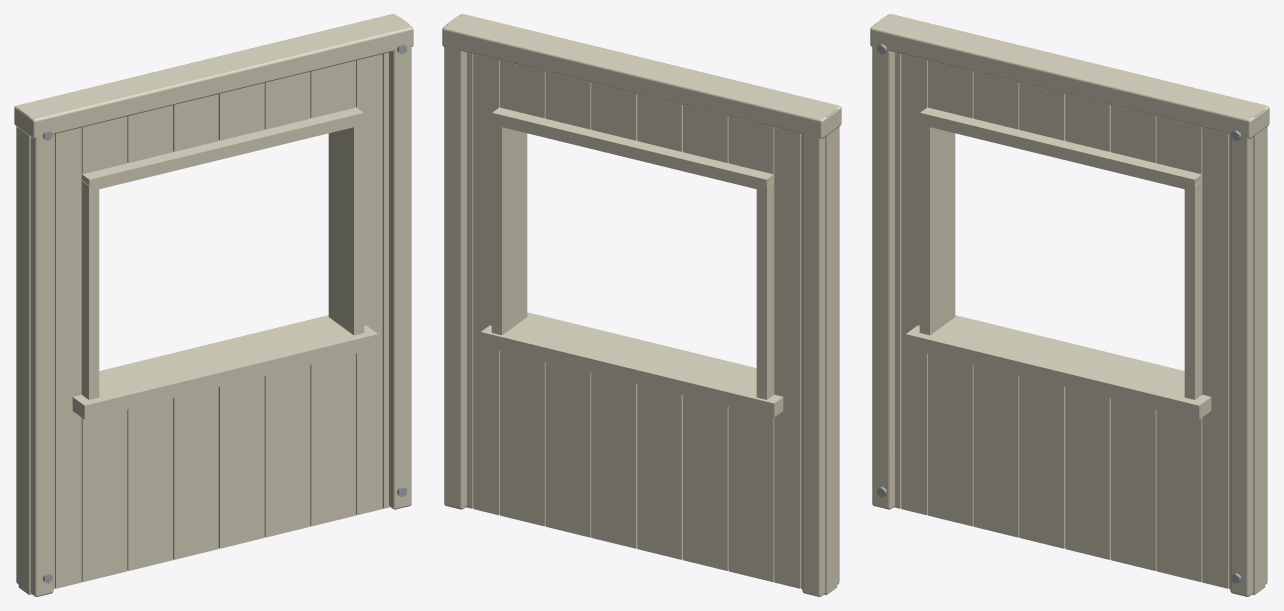
The model's file is suburban-outbreak-interiors-room-serving-hatch-b0e85bf7__19873.glb.
3 renders of one model, left to right at view 1: azimuth 30°, elevation 25°; view 2: azimuth 150°, elevation 25°; view 3: azimuth 330°, elevation 25°, orthographic.
Parts seen in each view (by area): view 1: room-serving-hatch; view 2: room-serving-hatch; view 3: room-serving-hatch.
Part boxes in pixels (<box>): room-serving-hatch: <box>14,14,413,596</box>; room-serving-hatch: <box>442,14,841,596</box>; room-serving-hatch: <box>870,14,1269,596</box>.
Bounding box in the file's own units: 2 × 2.4 × 0.29.
